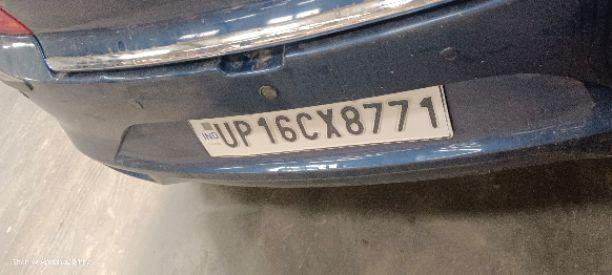license_plate: (1, 0, 610, 190), (186, 83, 454, 158)
